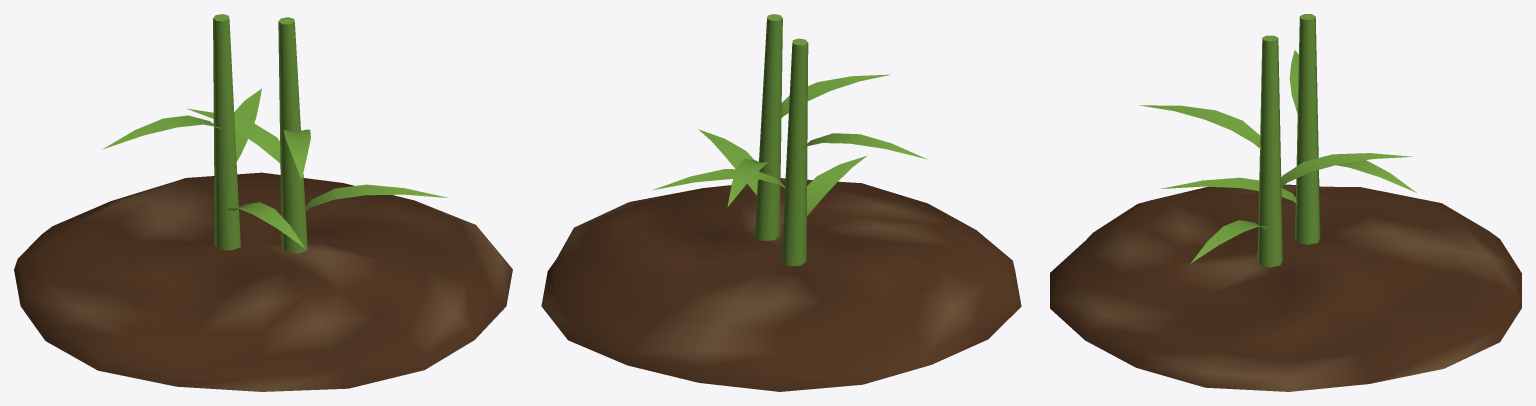
The model's file is plant-corn-1.gltf.
3 views of the same model, side by side, from view 1: azimuth 30°, elevation 25°; view 2: azimuth 150°, elevation 25°; view 3: azimuth 270°, elevation 25° (orthographic). The views are drawn at different scales.
Size of the model in its own units: 1.28 by 0.7654 by 1.26.
